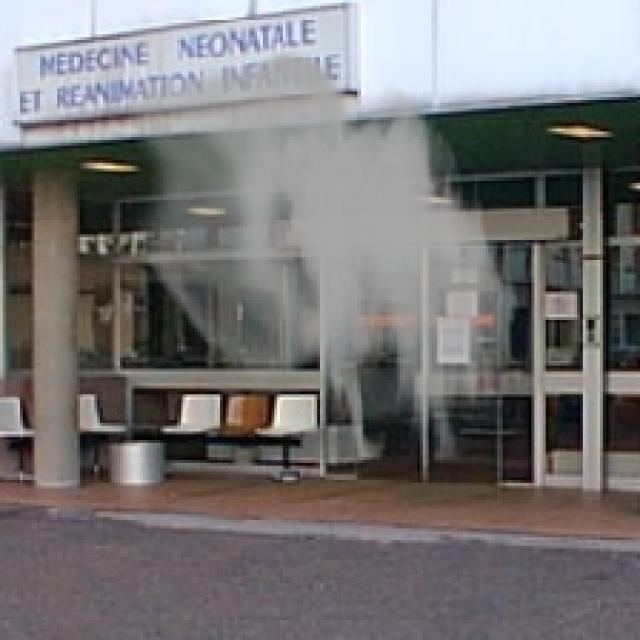Smoke: (126, 51, 523, 463)
